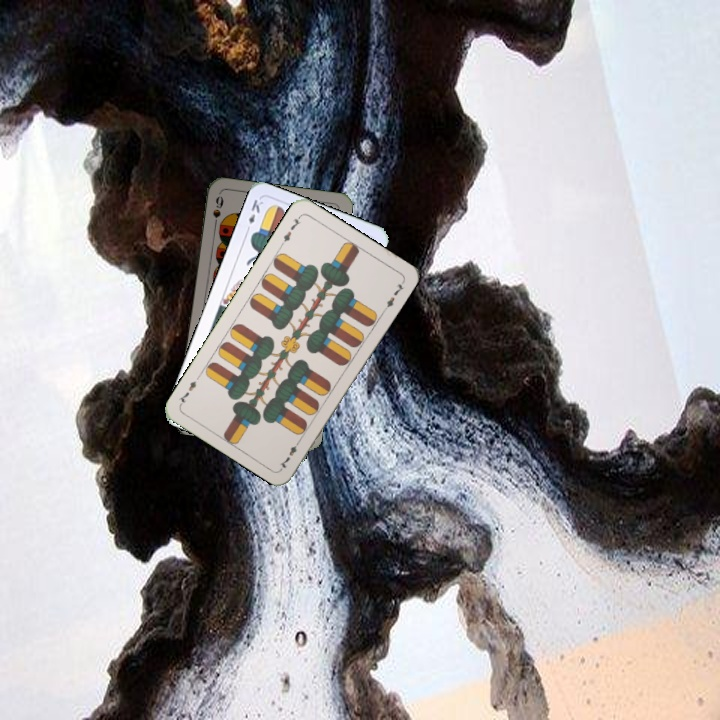E7: (275, 435, 304, 471), (277, 212, 303, 248)
EK: (242, 195, 266, 235)
S9: (209, 192, 226, 232)
